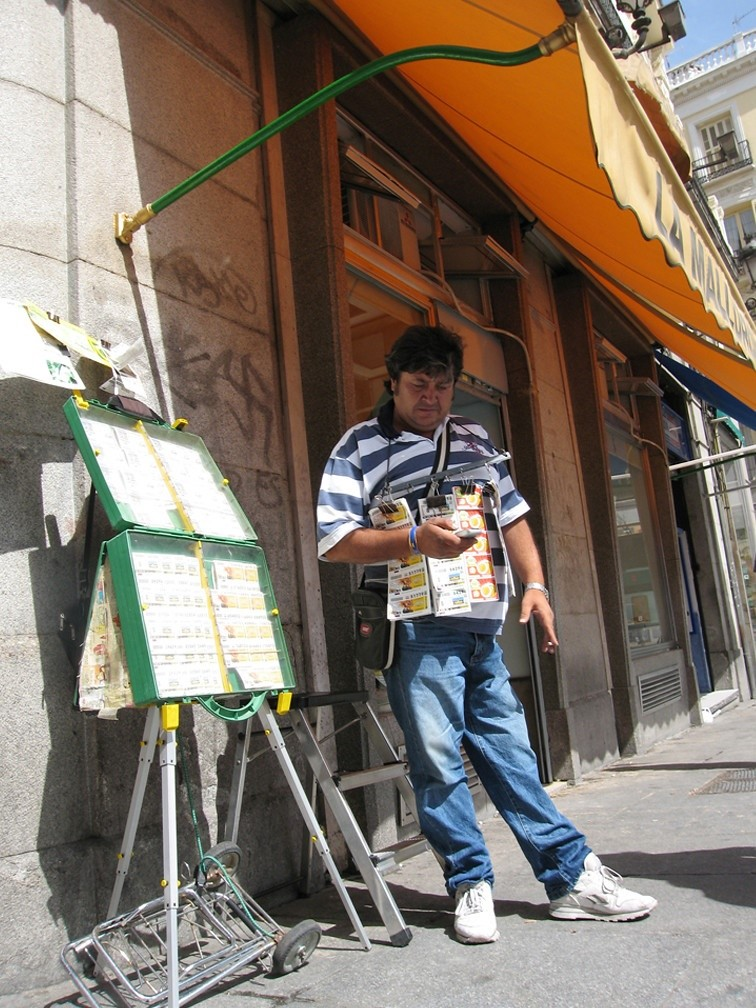face_no_mask: (387, 323, 460, 430)
